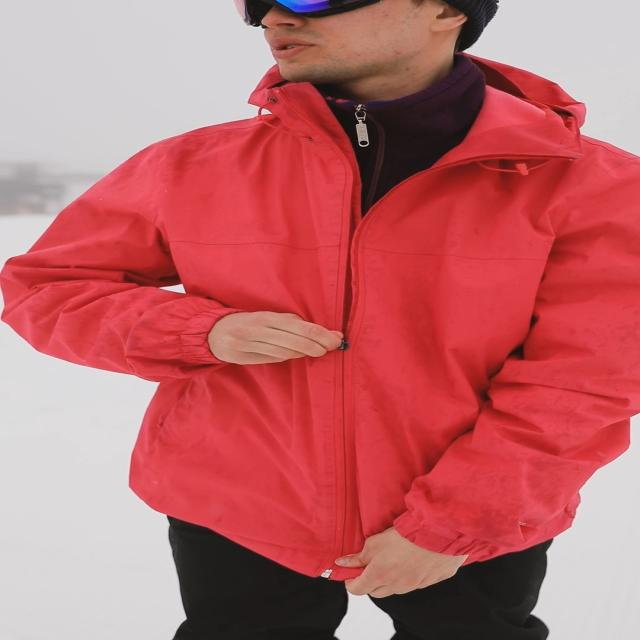Jacket_Wearer: (43, 97, 640, 588)
Person: (29, 0, 640, 640)
